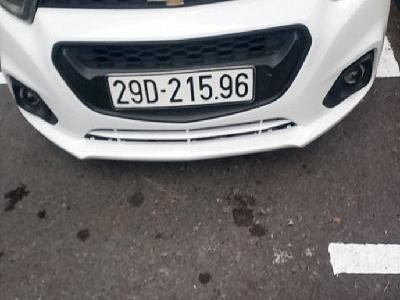lisence: (105, 65, 257, 112)
